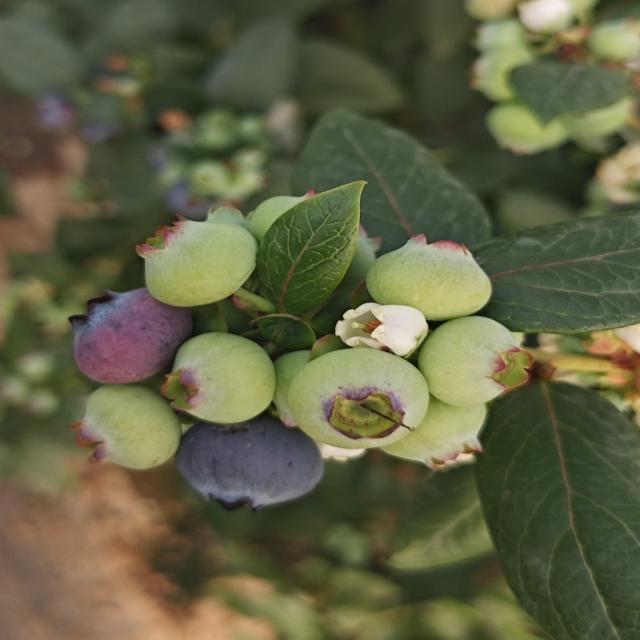ripe: (169, 410, 322, 508), (52, 284, 179, 383)
